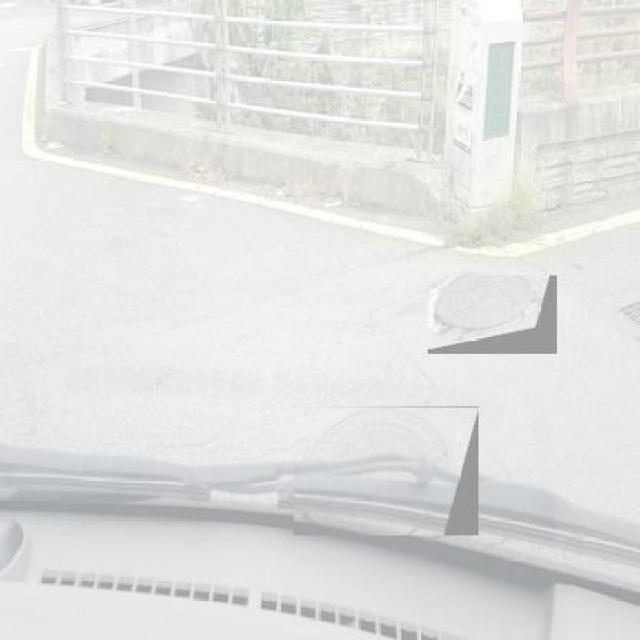Manhole: (294, 406, 478, 536), (427, 275, 558, 354), (606, 290, 640, 333)
